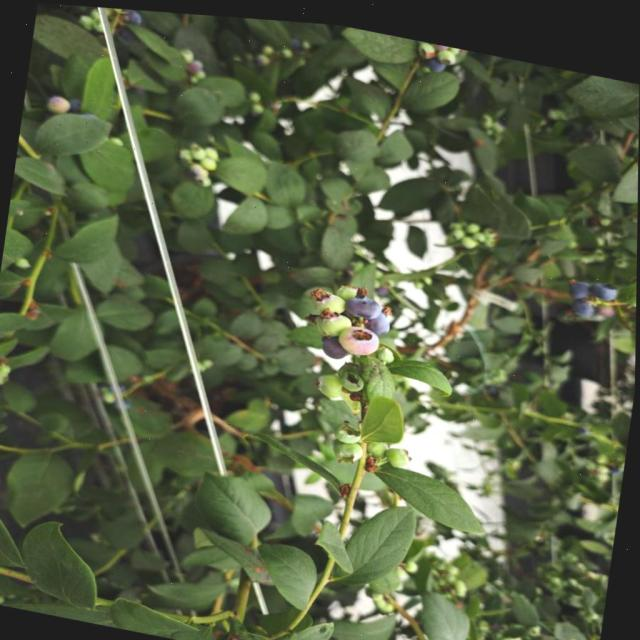RipeBlueBerry: (343, 284, 384, 316), (588, 268, 620, 294), (566, 268, 592, 293), (570, 290, 596, 312)
Semi-RipeBlueBerry: (336, 316, 383, 353)
UnripeBlueBerry: (310, 280, 347, 312)
